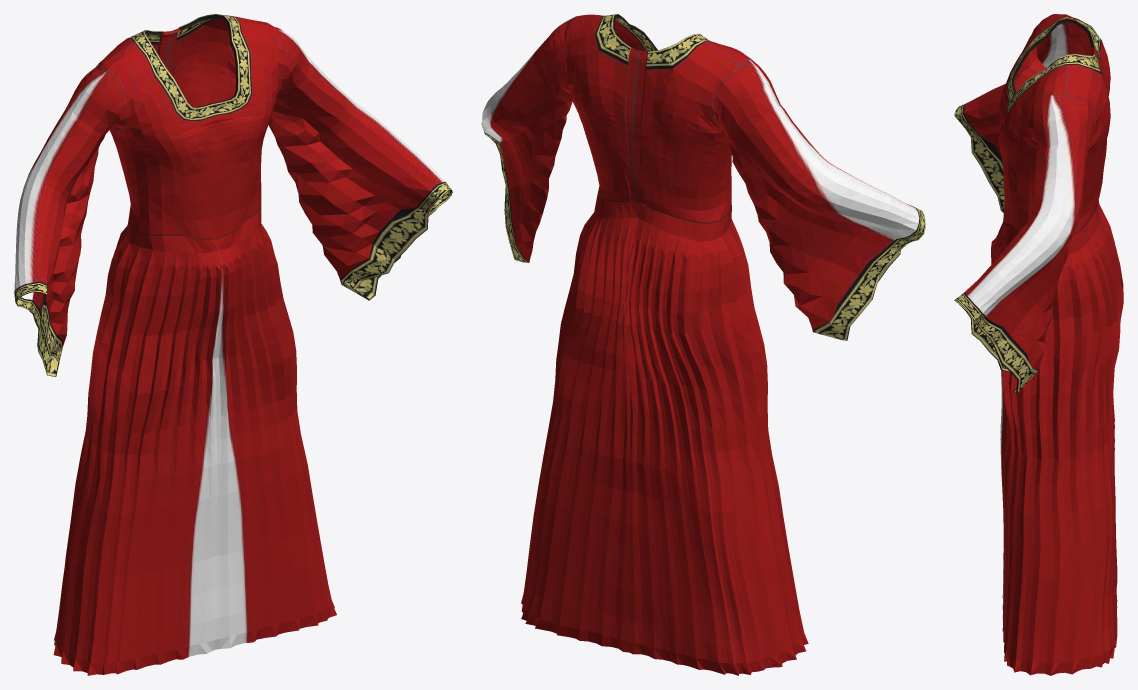
File: mhw_punkduck_medieval_dress.glb
3 views of the same model, side by side, from view 1: azimuth 30°, elevation 25°; view 2: azimuth 150°, elevation 25°; view 3: azimuth 270°, elevation 25° (orthographic). The views are drawn at different scales.
Visible parts, largest first — view 1: mhw_punkduck_medieval_dress; view 2: mhw_punkduck_medieval_dress; view 3: mhw_punkduck_medieval_dress.
Boxes of the visible parts, left/top/right/bottom form: mhw_punkduck_medieval_dress: left=14, top=14, right=452, bottom=675; mhw_punkduck_medieval_dress: left=481, top=14, right=925, bottom=675; mhw_punkduck_medieval_dress: left=954, top=14, right=1123, bottom=675.
Bounding box in the file's own units: 1.11 × 1.46 × 0.3887.
1 material, 1 textured.
